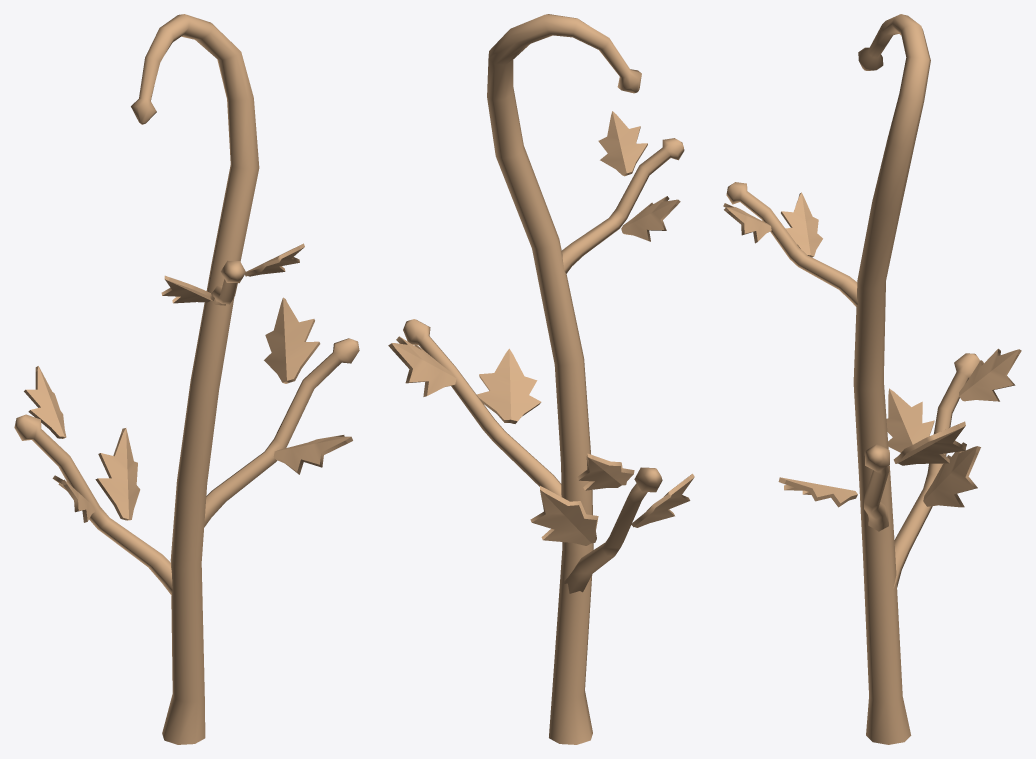
Rendered from asteroidPlant_stage2.fbx.
The picture shows the model from 3 angles, left to right: view 1: azimuth 30°, elevation 25°; view 2: azimuth 150°, elevation 25°; view 3: azimuth 270°, elevation 25°; orthographic projection. The views are drawn at different scales.
Parts seen in each view (by area): view 1: stage3_asteroidStem, stage3_asteroidBranch3, stage3_asteroidBranch1, stage3_asteroidLeaf2, stage3_asteroidLeaf5, stage3_asteroidLeaf1, stage3_asteroidLeaf7, stage3_asteroidBranch5, stage3_asteroidLeaf4, stage3_asteroidLeaf3, stage3_asteroidLeaf6; view 2: stage3_asteroidStem, stage3_asteroidBranch1, stage3_asteroidBranch5, stage3_asteroidBranch3, stage3_asteroidLeaf1, stage3_asteroidLeaf5, stage3_asteroidLeaf2, stage3_asteroidLeaf3, stage3_asteroidLeaf7, stage3_asteroidLeaf4, stage3_asteroidLeaf6; view 3: stage3_asteroidStem, stage3_asteroidBranch3, stage3_asteroidBranch5, stage3_asteroidLeaf5, stage3_asteroidLeaf7, stage3_asteroidLeaf6, stage3_asteroidBranch1, stage3_asteroidLeaf2, stage3_asteroidLeaf4, stage3_asteroidLeaf1, stage3_asteroidLeaf3.
Part boxes in pixels (x1,y1,x2,y2): stage3_asteroidStem: (131,14,259,744); stage3_asteroidBranch3: (14,414,172,595); stage3_asteroidBranch1: (204,338,359,527); stage3_asteroidLeaf2: (264,297,320,383); stage3_asteroidLeaf5: (95,428,140,520); stage3_asteroidLeaf1: (273,435,352,474); stage3_asteroidLeaf7: (24,366,66,438); stage3_asteroidBranch5: (211,260,246,305); stage3_asteroidLeaf4: (161,275,214,303); stage3_asteroidLeaf3: (245,243,304,276); stage3_asteroidLeaf6: (52,475,94,522); stage3_asteroidStem: (487,14,641,744); stage3_asteroidBranch1: (403,319,561,496); stage3_asteroidBranch5: (562,138,684,273); stage3_asteroidBranch3: (562,467,662,593); stage3_asteroidLeaf1: (476,348,541,423); stage3_asteroidLeaf5: (530,486,598,545); stage3_asteroidLeaf2: (388,336,456,396); stage3_asteroidLeaf3: (598,111,647,176); stage3_asteroidLeaf7: (576,453,634,490); stage3_asteroidLeaf4: (621,196,680,241); stage3_asteroidLeaf6: (631,473,694,527); stage3_asteroidStem: (853,14,930,744); stage3_asteroidBranch3: (893,353,979,588); stage3_asteroidBranch5: (726,182,858,306); stage3_asteroidLeaf5: (923,442,980,507); stage3_asteroidLeaf7: (959,348,1021,401); stage3_asteroidLeaf6: (886,388,934,452); stage3_asteroidBranch1: (864,443,889,531); stage3_asteroidLeaf2: (893,421,965,465); stage3_asteroidLeaf4: (781,192,822,257); stage3_asteroidLeaf1: (778,477,857,507); stage3_asteroidLeaf3: (723,203,771,243).
Size of the model in its own units: 41.84 by 96.03 by 36.23.
